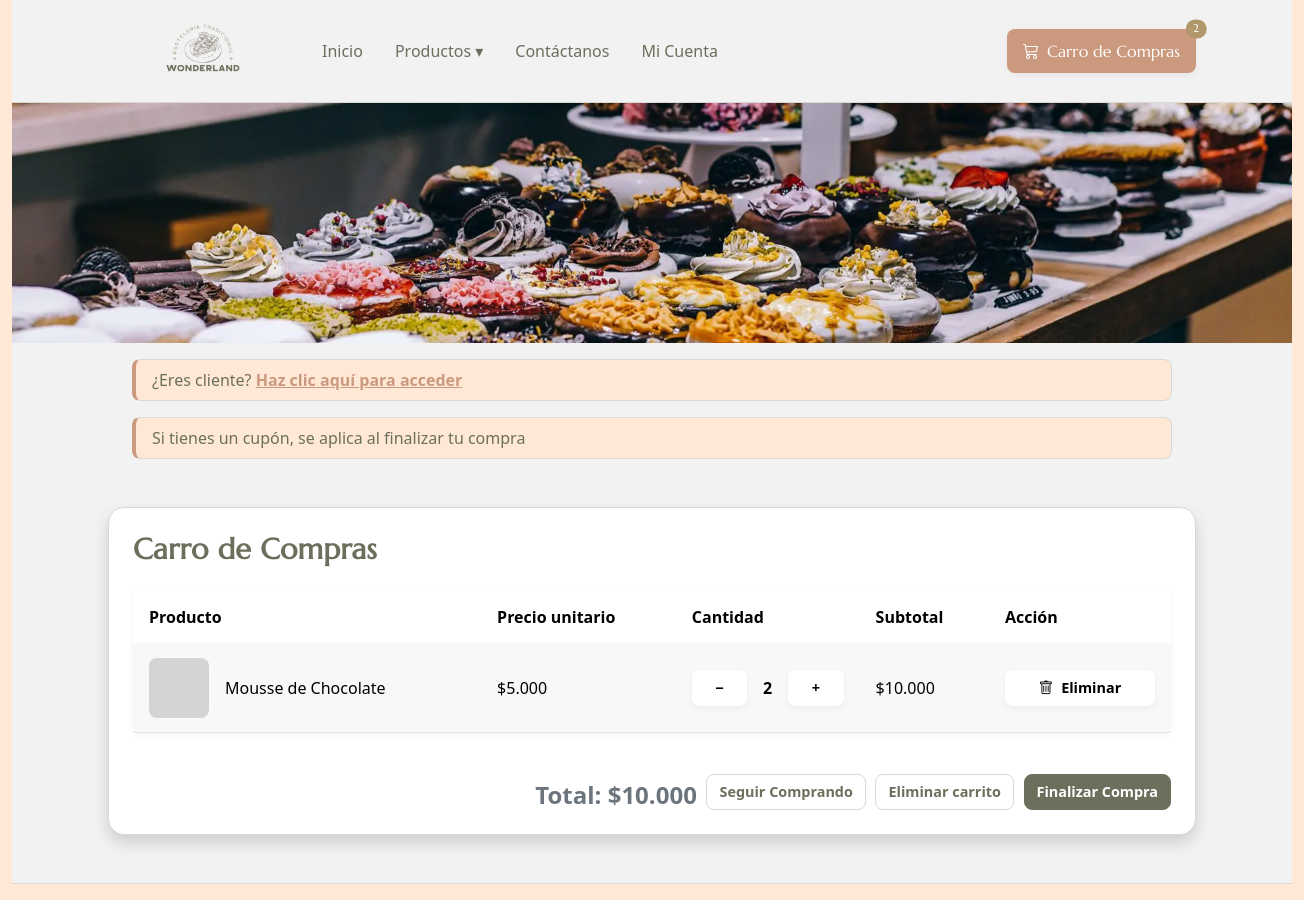
it: Carro.jsx › elimina un producto del carrito
This screenshot has width=1304, height=900.
Click the button "Eliminar".
click(1080, 688)  # box [1005,670,1155,706]
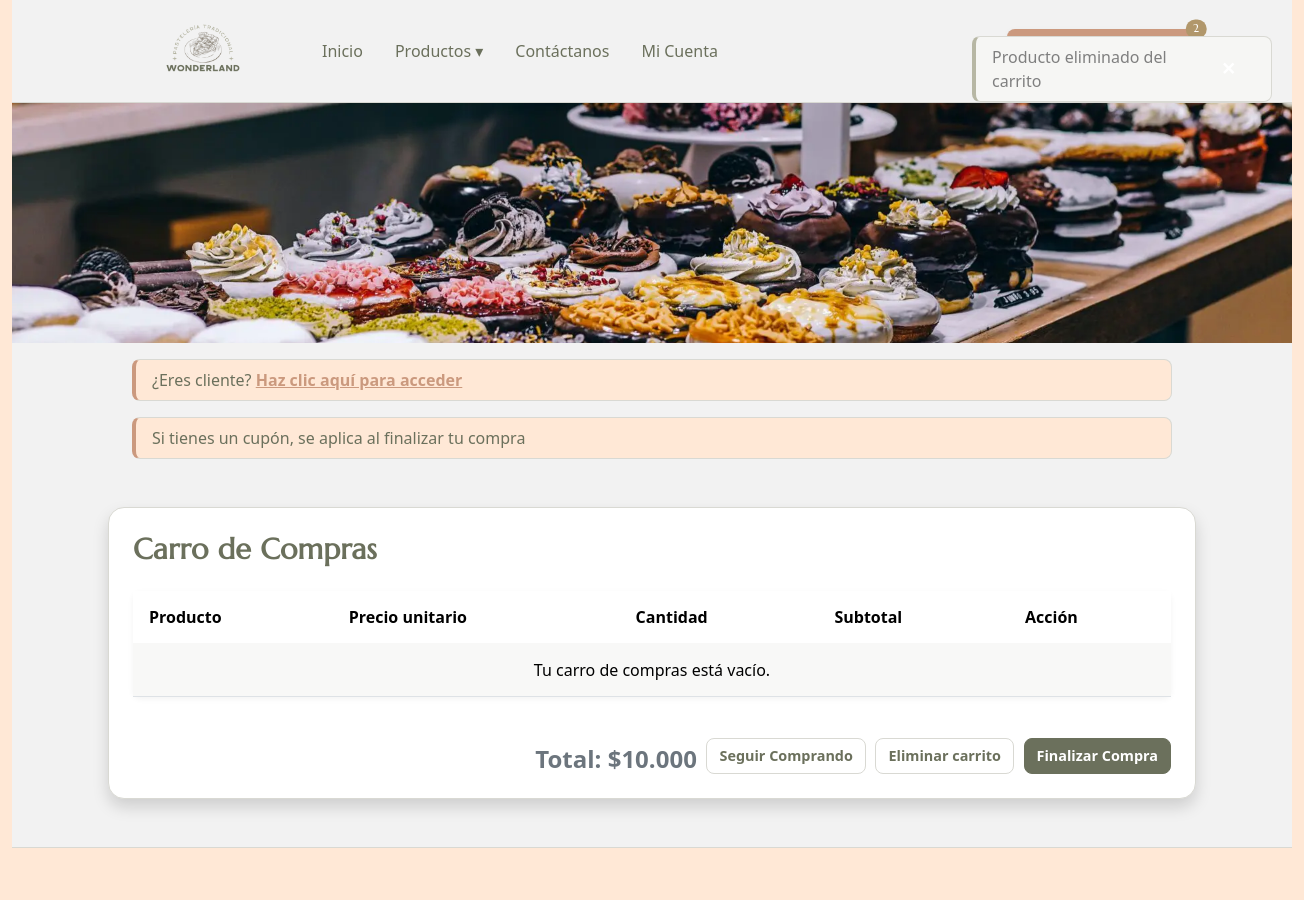
Expected: the text "Producto eliminado del carrito" is shown, [992,45,1192,93]
